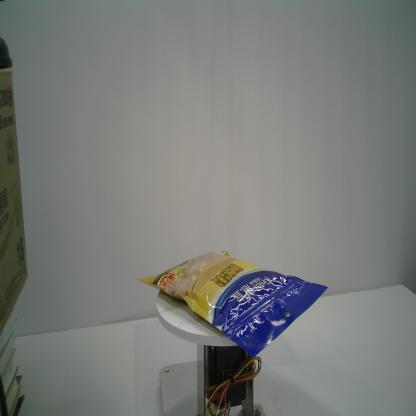Dried Fruit: (136, 248, 330, 358)
